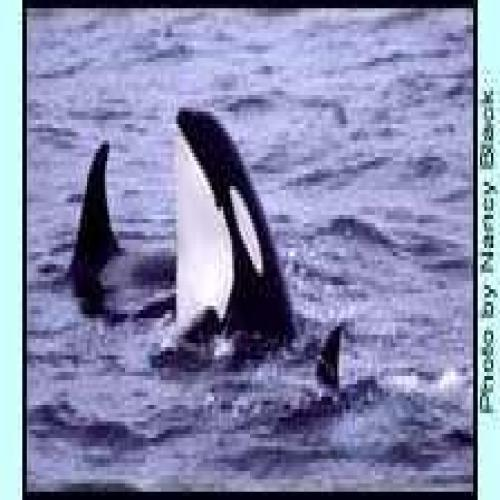killer_whale-endangered: (147, 64, 313, 375), (43, 111, 128, 299)
